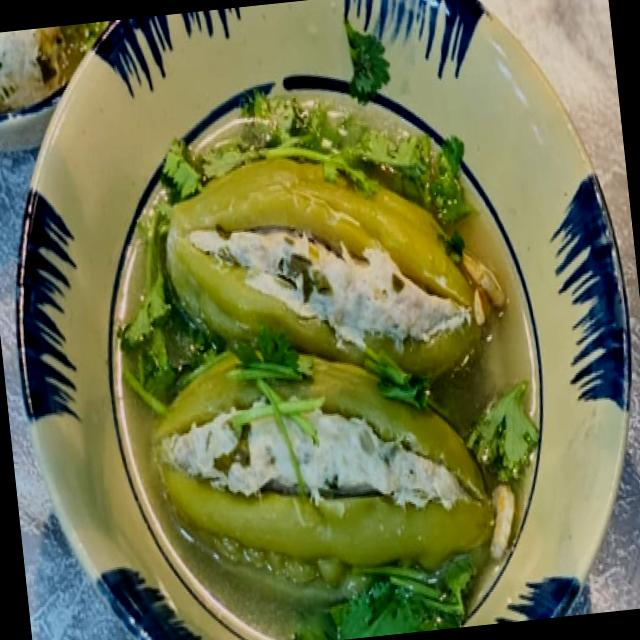kho qua: (157, 357, 494, 579), (168, 157, 504, 375)
